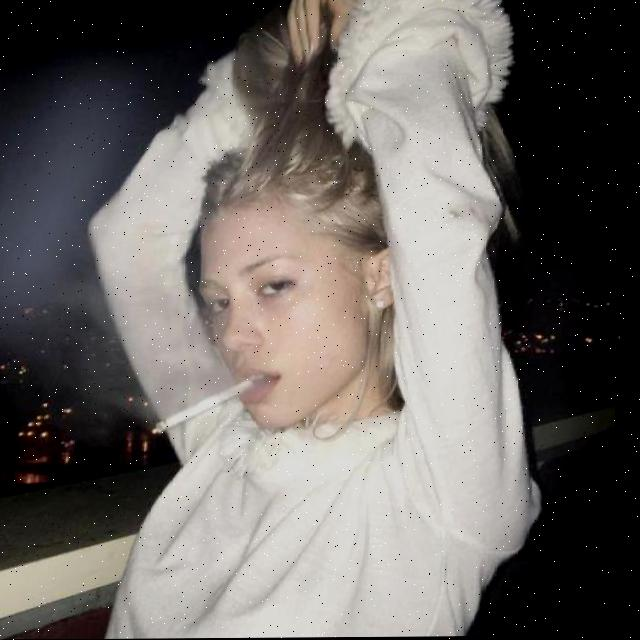cigarette: (159, 373, 264, 438)
